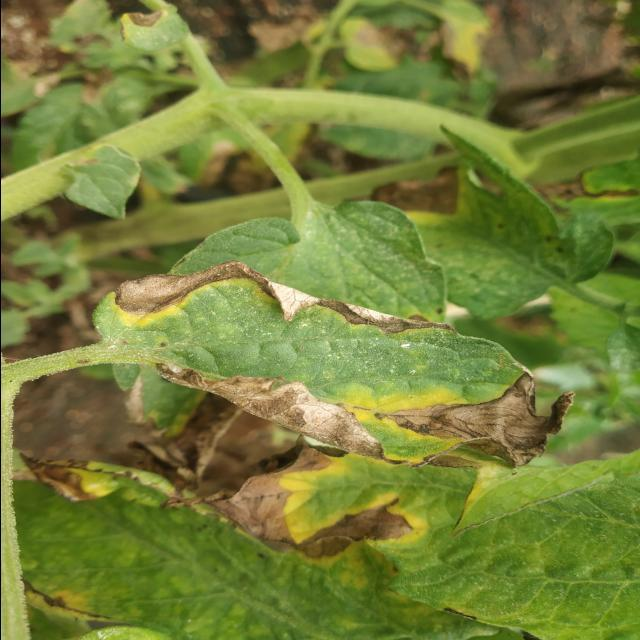Tomato mosaic virus leaf: (88, 256, 578, 474)
